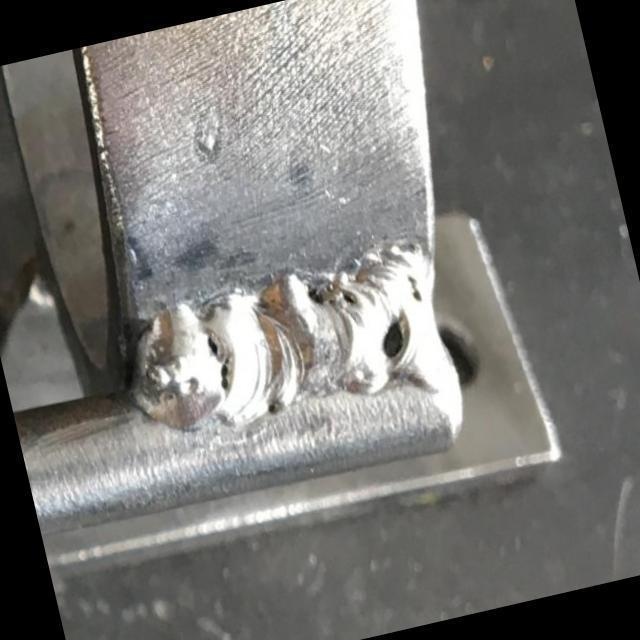defect: (378, 302, 419, 369), (305, 280, 363, 320), (201, 330, 237, 393), (264, 398, 278, 417)
